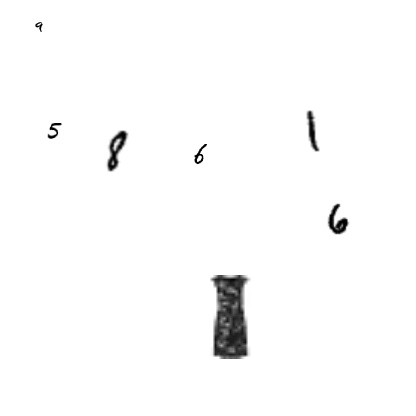1: (283, 103, 339, 159)
5: (43, 119, 65, 141)
6: (316, 201, 358, 243), (185, 141, 213, 169)
8: (88, 121, 144, 177)
9: (32, 19, 46, 33)
Dress: (187, 275, 271, 359)
